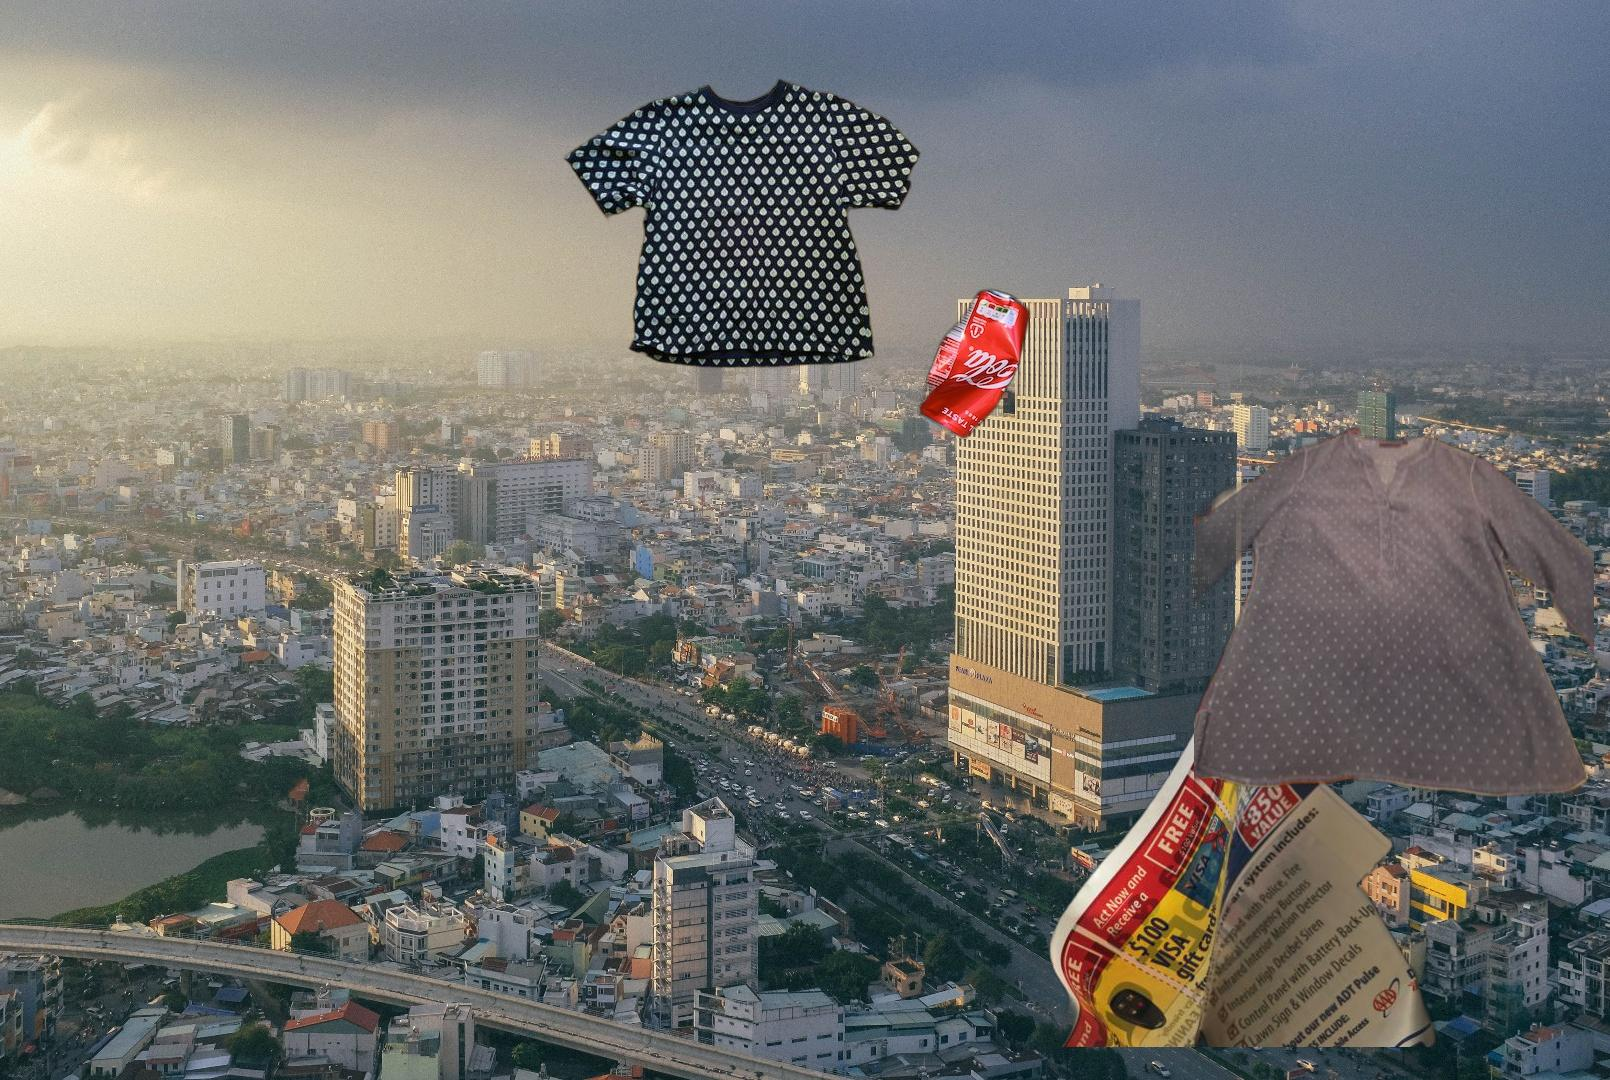clothes: (1194, 421, 1594, 809), (559, 77, 926, 371)
metal-cans: (915, 284, 1034, 445)
paper: (1042, 663, 1442, 1047)
